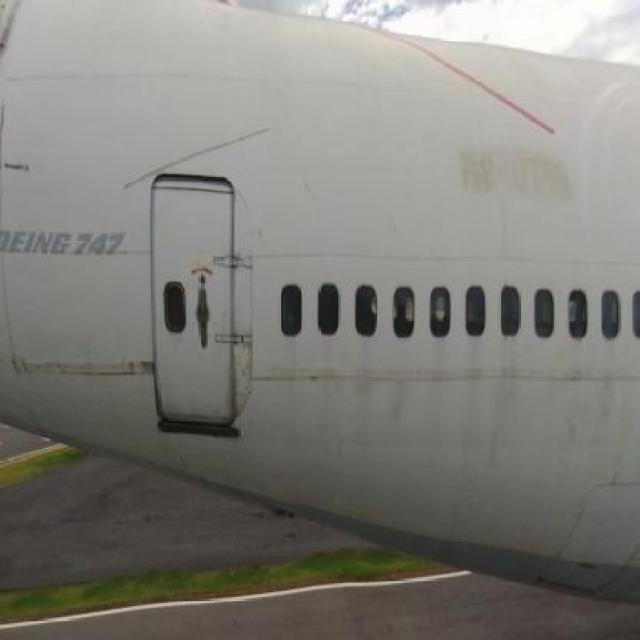Rust: (13, 347, 129, 388)
Scartch: (567, 367, 625, 476), (480, 358, 525, 464), (360, 364, 411, 430), (290, 158, 328, 212), (229, 352, 256, 418), (134, 344, 158, 385)
